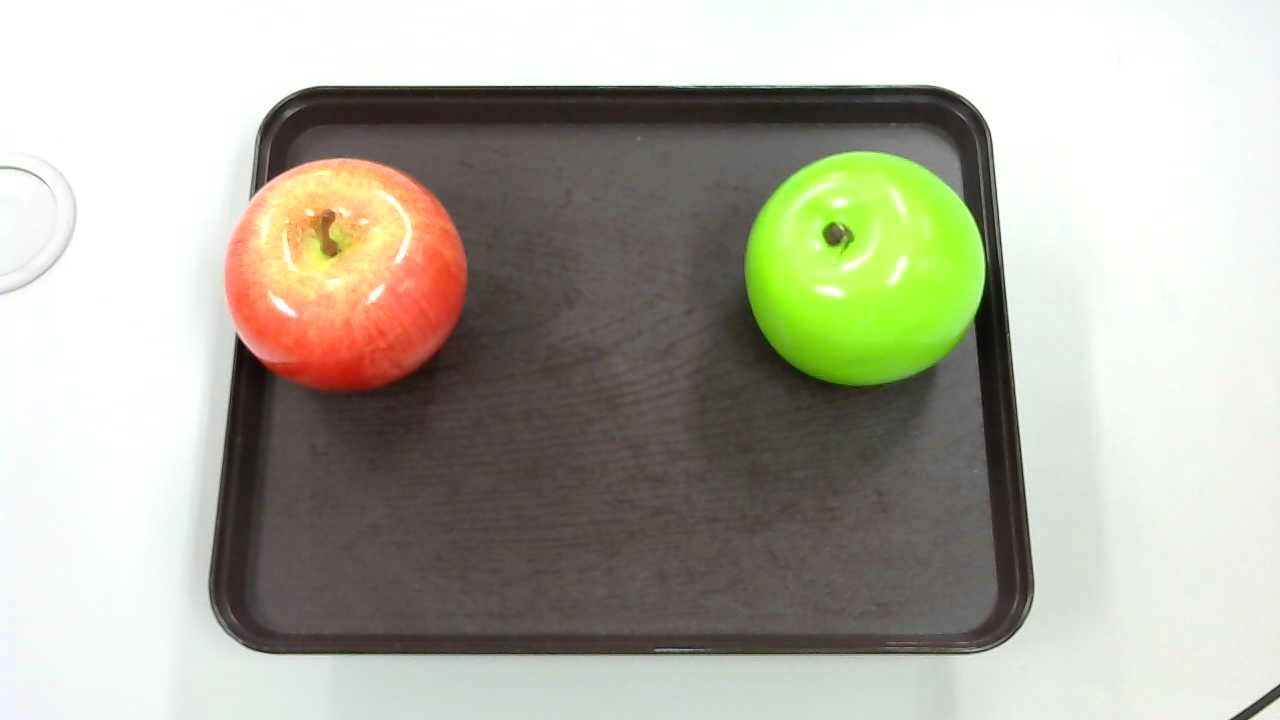green apple: (744, 141, 982, 391)
red apple: (228, 148, 466, 393)
